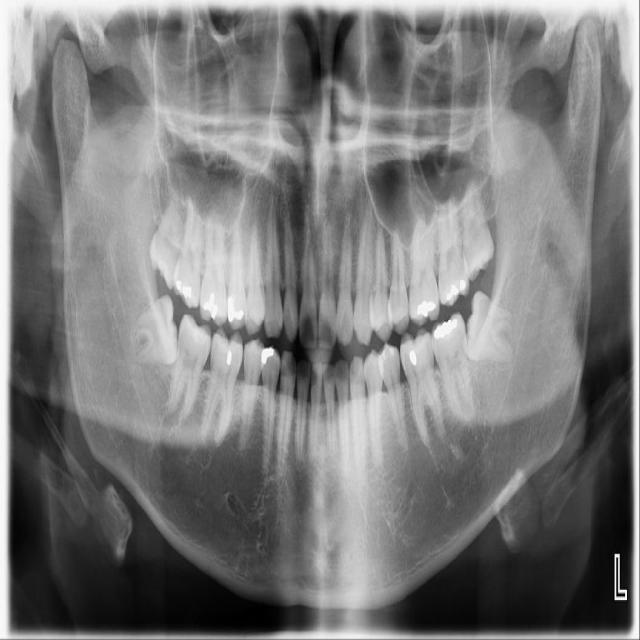Filling: (443, 280, 468, 305), (412, 297, 438, 321), (433, 315, 458, 339), (225, 297, 244, 328), (200, 291, 221, 317), (174, 279, 194, 303), (404, 344, 421, 368), (220, 345, 237, 368), (258, 349, 275, 366), (378, 347, 397, 362)
impacted tooth: (464, 288, 523, 361), (130, 294, 178, 362)
